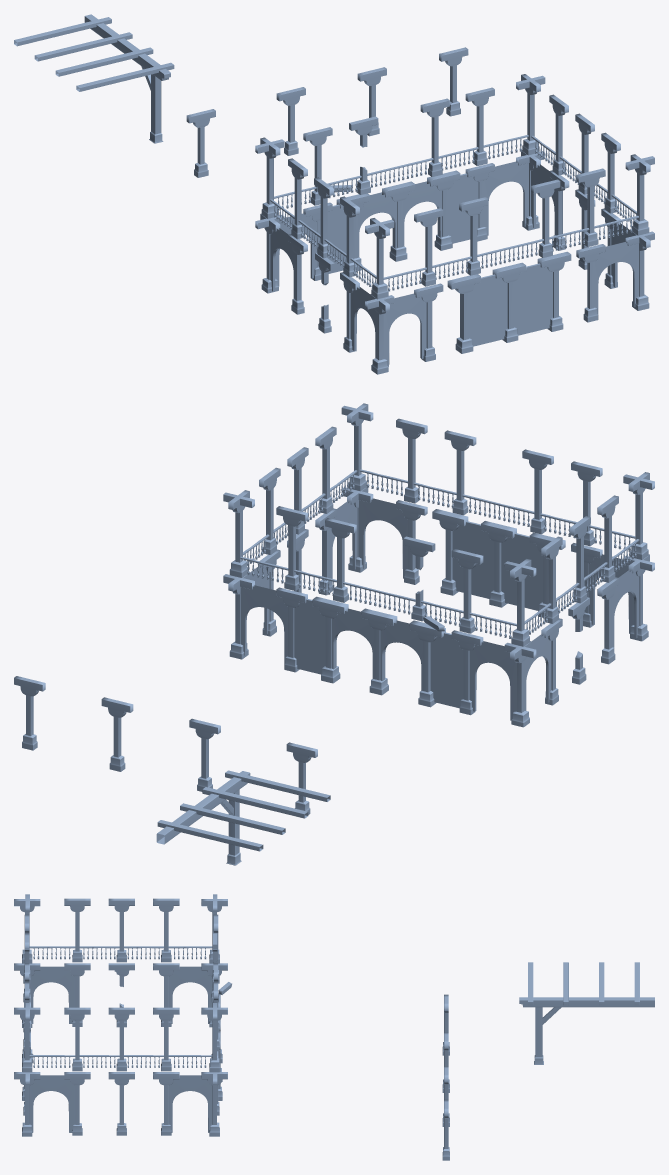
Rendered from SM_courtyard_pillars.fbx.
The picture shows the model from 3 angles, top to bottom: view 1: azimuth 30°, elevation 25°; view 2: azimuth 150°, elevation 25°; view 3: azimuth 270°, elevation 25°; orthographic projection. The views are drawn at different scales.
Parts seen in each view (by area): view 1: Fireplace:Fireplace:Fireplace:Fireplace:Fireplace:Fireplace: (×3), pCube223, polySurface785, walls31, Beam22, Fireplace:Fireplace:Fireplace:Fireplace:pCube223, Fireplace:Fireplace:Fireplace:Fireplace:Doorway12, Fireplace:Fireplace:Fireplace:Fireplace:polySurface112, pCube229, pCube228, pCube227, pCube226 (+20 smaller); view 2: Fireplace:Fireplace:Fireplace:Fireplace:Fireplace:Fireplace: (×3), pCube223, polySurface785, walls31, Beam22, Fireplace:Fireplace:Fireplace:Fireplace:pCube223, Fireplace:Fireplace:Fireplace:Fireplace:Doorway13, Fireplace:Fireplace:Fireplace:Fireplace:Doorway12, Fireplace:Fireplace:Fireplace:Fireplace:Doorway19, pCube227, Beam23, pCube226 (+20 smaller); view 3: Fireplace:Fireplace:Fireplace:Fireplace:Fireplace:Fireplace:, pCube223, polySurface785, Fireplace:Fireplace:Fireplace:Fireplace:pCube223, Beam23, Fireplace:Fireplace:Fireplace:Fireplace:Doorway10, Fireplace:Fireplace:Fireplace:Fireplace:Doorway11, Beam22, Fireplace:Fireplace:Fireplace:Fireplace:Doorway15, Fireplace:Fireplace:Fireplace:Fireplace:Doorway16, pCube226, pCube229 (+4 smaller).
Part boxes in pixels (bbox=[...]): Fireplace:Fireplace:Fireplace:Fireplace:Fireplace:Fireplace: (×3): bbox=[288, 163, 654, 366]; pCube223: bbox=[288, 87, 605, 286]; polySurface785: bbox=[270, 135, 638, 291]; walls31: bbox=[469, 263, 552, 346]; Beam22: bbox=[14, 17, 174, 91]; Fireplace:Fireplace:Fireplace:Fireplace:pCube223: bbox=[549, 94, 620, 213]; Fireplace:Fireplace:Fireplace:Fireplace:Doorway12: bbox=[483, 161, 528, 235]; Fireplace:Fireplace:Fireplace:Fireplace:polySurface112: bbox=[447, 274, 480, 353]; pCube229: bbox=[625, 154, 654, 235]; pCube228: bbox=[365, 218, 394, 299]; pCube227: bbox=[255, 137, 284, 218]; pCube226: bbox=[516, 74, 545, 155]; Fireplace:Fireplace:Fireplace:Fireplace:Fireplace:Fireplace: (×3): bbox=[259, 487, 634, 715]; pCube223: bbox=[276, 418, 618, 633]; polySurface785: bbox=[240, 469, 639, 638]; walls31: bbox=[452, 521, 542, 610]; Beam22: bbox=[157, 770, 330, 851]; Fireplace:Fireplace:Fireplace:Fireplace:pCube223: bbox=[259, 426, 336, 554]; Fireplace:Fireplace:Fireplace:Fireplace:Doorway13: bbox=[469, 641, 516, 720]; Fireplace:Fireplace:Fireplace:Fireplace:Doorway12: bbox=[240, 585, 288, 663]; Fireplace:Fireplace:Fireplace:Fireplace:Doorway19: bbox=[331, 608, 374, 678]; pCube227: bbox=[504, 559, 536, 646]; Beam23: bbox=[156, 771, 250, 844]; pCube226: bbox=[223, 490, 254, 577]; Fireplace:Fireplace:Fireplace:Fireplace:Fireplace:Fireplace:: bbox=[14, 963, 219, 1136]; pCube223: bbox=[23, 898, 219, 1051]; polySurface785: bbox=[29, 946, 212, 1067]; Fireplace:Fireplace:Fireplace:Fireplace:pCube223: bbox=[64, 1007, 179, 1071]; Beam23: bbox=[519, 997, 654, 1007]; Fireplace:Fireplace:Fireplace:Fireplace:Doorway10: bbox=[29, 1075, 75, 1132]; Fireplace:Fireplace:Fireplace:Fireplace:Doorway11: bbox=[168, 1075, 212, 1132]; Beam22: bbox=[528, 962, 639, 1005]; Fireplace:Fireplace:Fireplace:Fireplace:Doorway15: bbox=[29, 966, 75, 1023]; Fireplace:Fireplace:Fireplace:Fireplace:Doorway16: bbox=[168, 966, 212, 1023]; pCube226: bbox=[201, 1003, 227, 1072]; pCube229: bbox=[14, 1003, 40, 1072].
Bounding box in the file's own units: 1919 × 819 × 3607.
